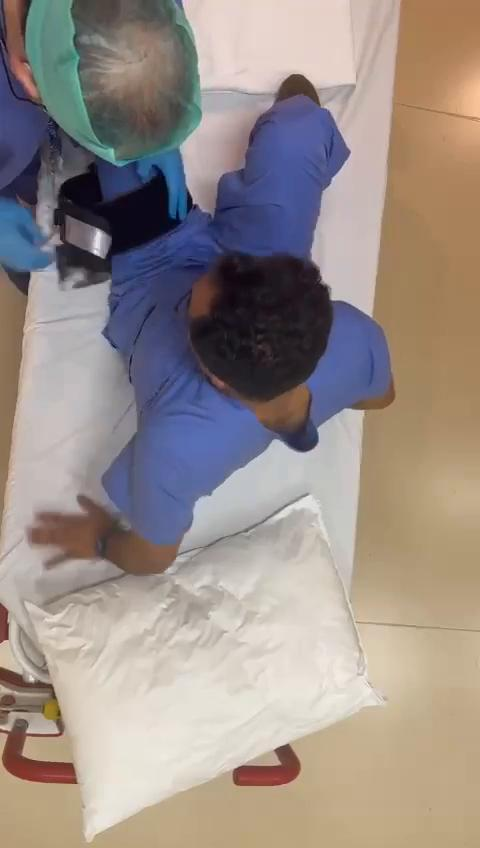patient: (30, 78, 394, 574)
tourniquet: (55, 166, 179, 284)
